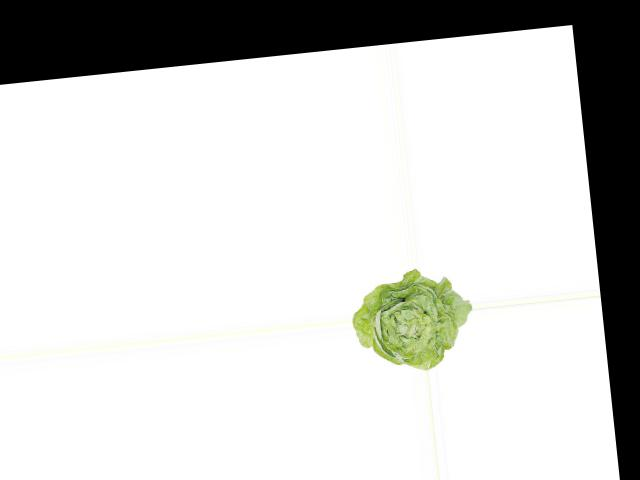lettuce: (346, 264, 474, 376)
